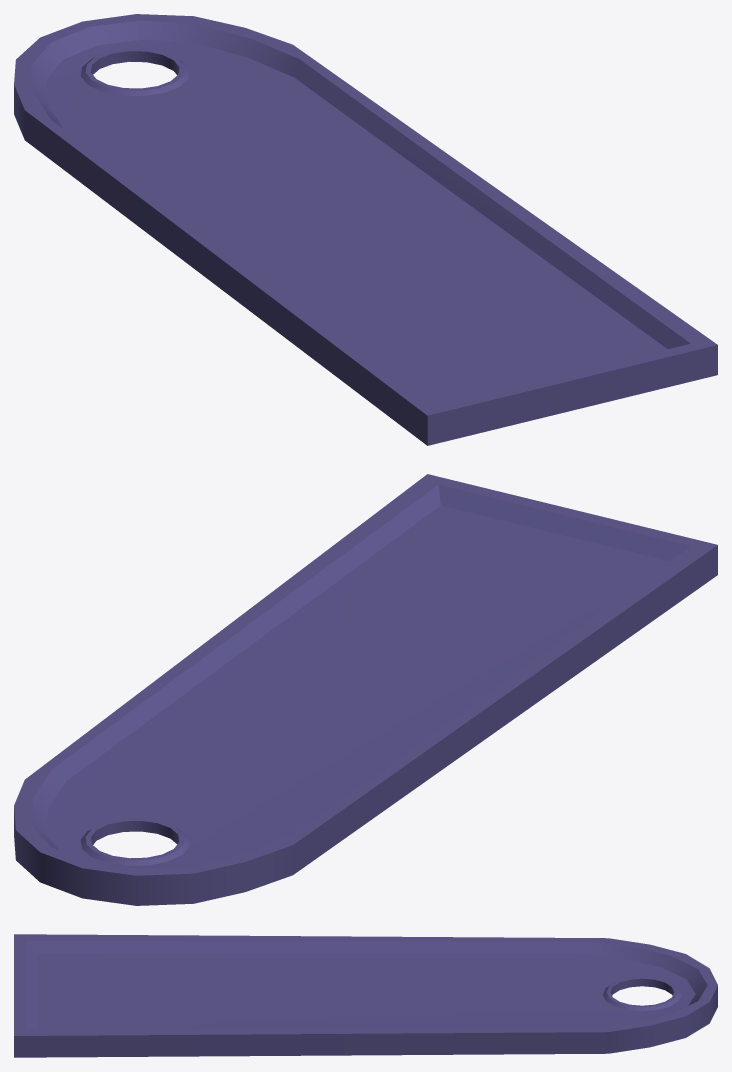
The model's file is Llavero.fbx.
The picture shows the model from 3 angles, top to bottom: view 1: azimuth 30°, elevation 25°; view 2: azimuth 150°, elevation 25°; view 3: azimuth 270°, elevation 25°; orthographic projection. The views are drawn at different scales.
Parts seen in each view (by area): view 1: Llavero; view 2: Llavero; view 3: Llavero.
Boxes of the visible parts, x1,y1,x2,y2 form: Llavero: [14, 14, 717, 445]; Llavero: [14, 474, 717, 905]; Llavero: [14, 934, 717, 1057].
Size of the model in its own units: 0.0173 by 0.00172 by 0.0505.
